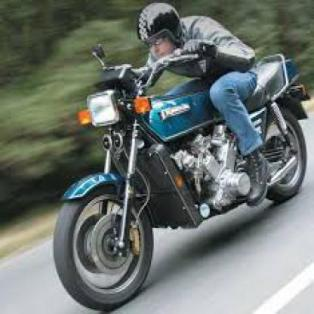Motocicleta: (45, 53, 306, 300)
